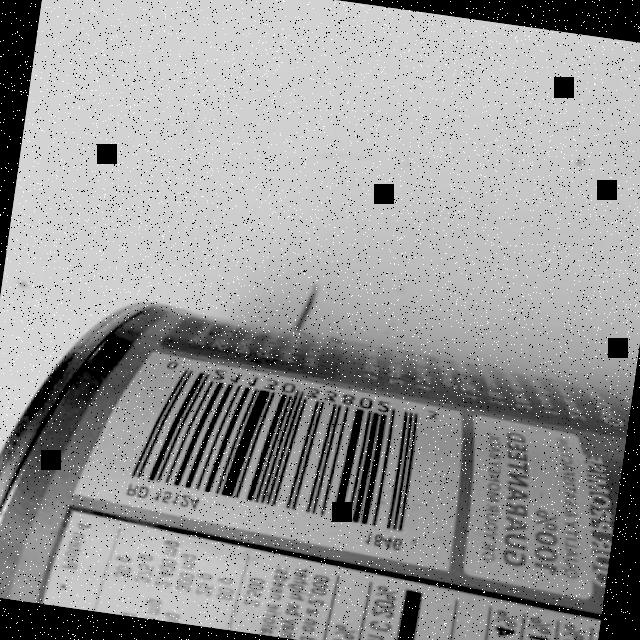can: (0, 276, 636, 640)
